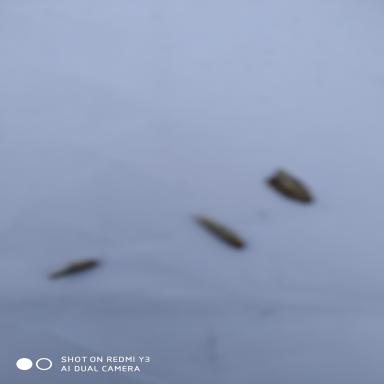pbw: (191, 214, 249, 252), (265, 167, 316, 204), (36, 257, 99, 280)
